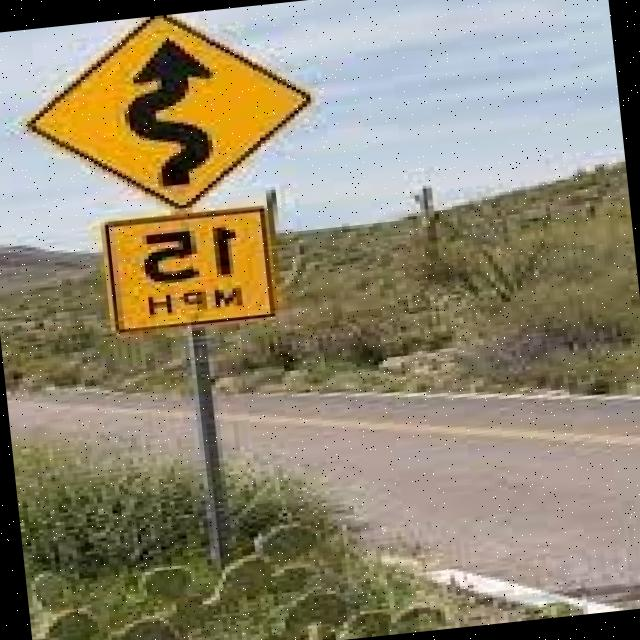left_sharp_curve: (0, 0, 351, 229)
